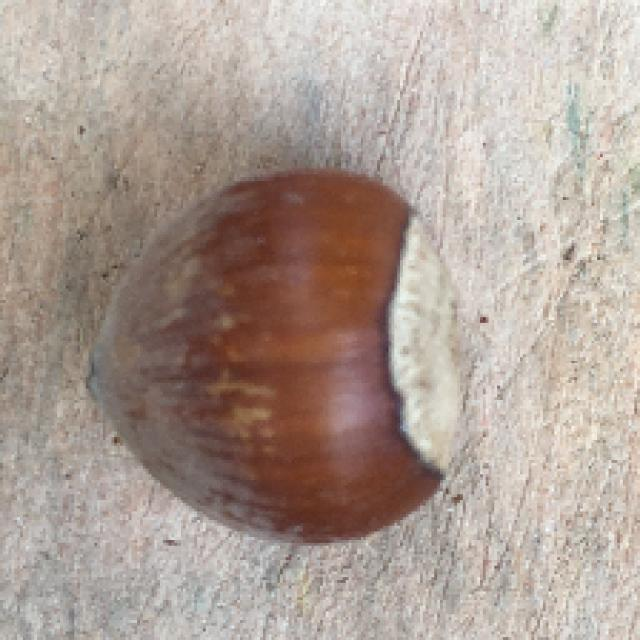qualityHazelnut: (75, 158, 486, 544)
